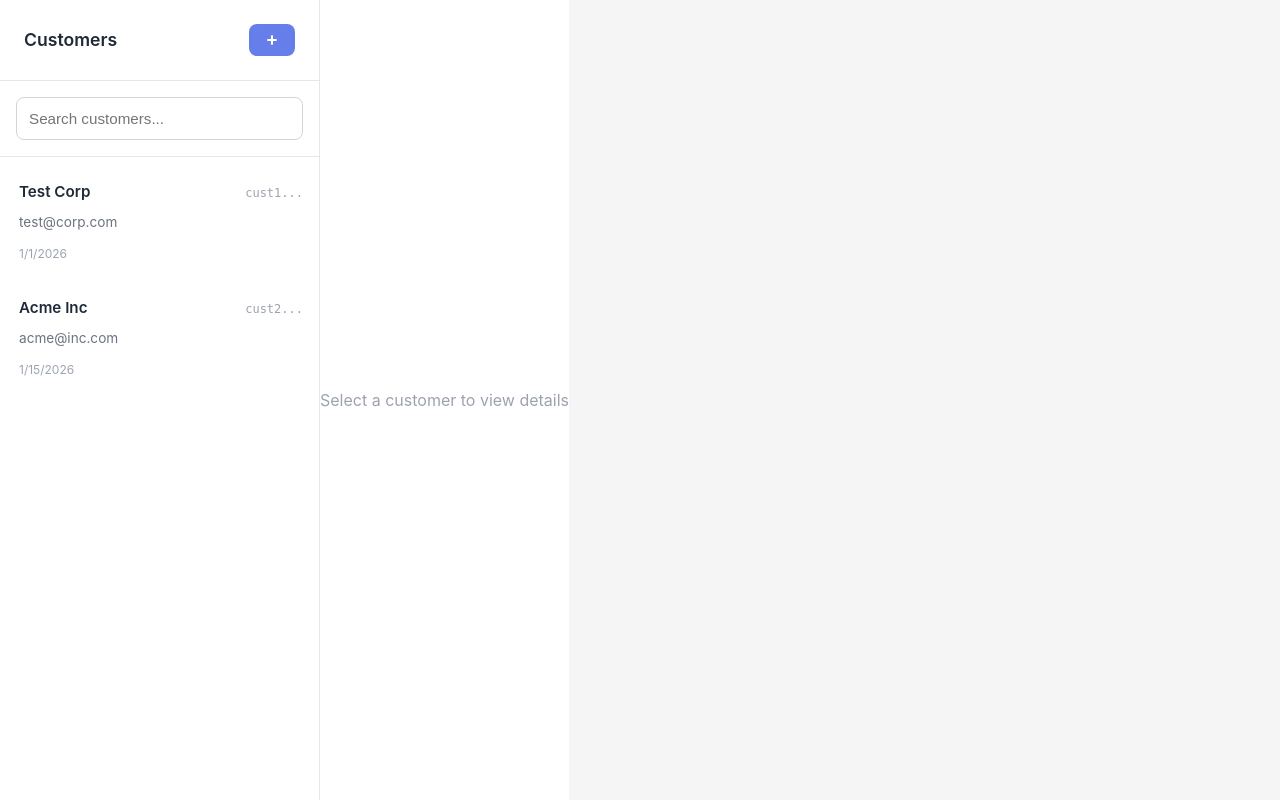
Test: CustomersPage › should open conversation modal when start conversation is clicked
Click the heading "Test Corp" at (55, 192), box left=19, top=181, right=90, bottom=204
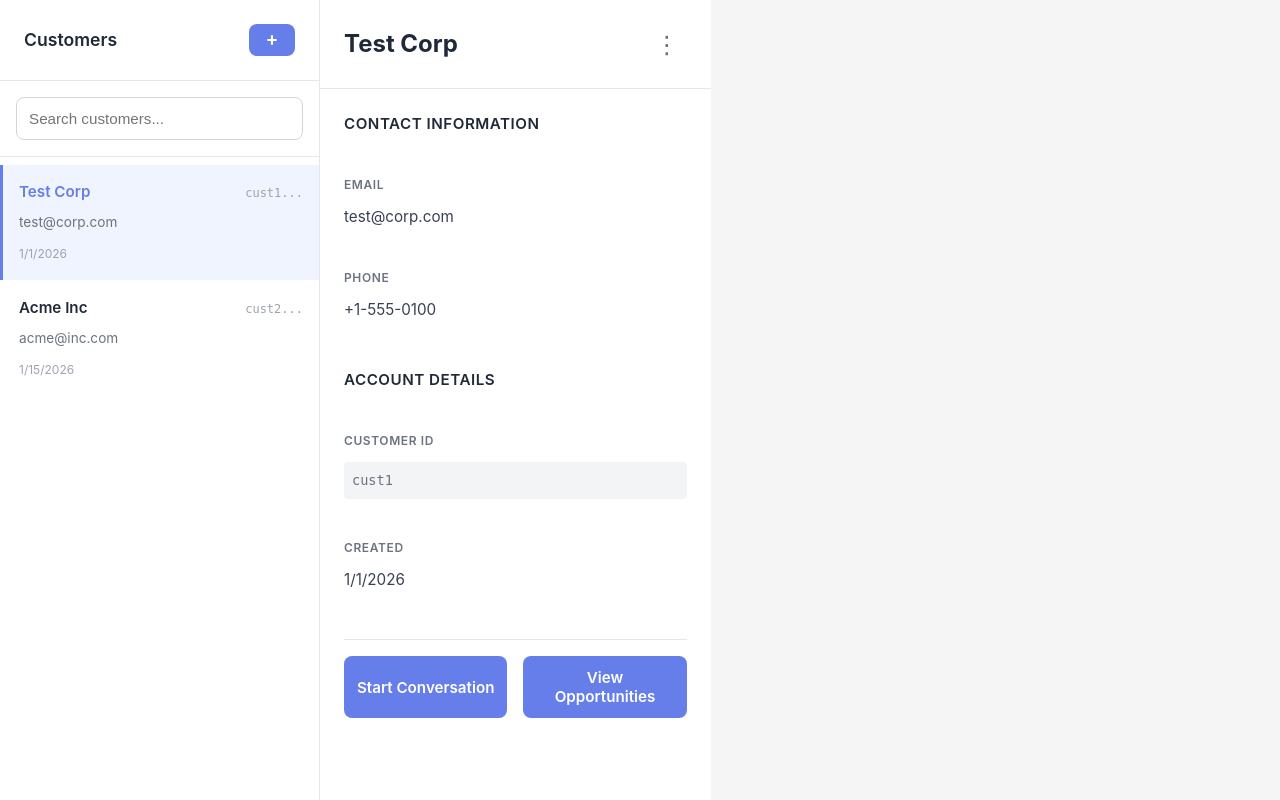
Click the button "Start Conversation" at (426, 687), box left=344, top=656, right=507, bottom=718
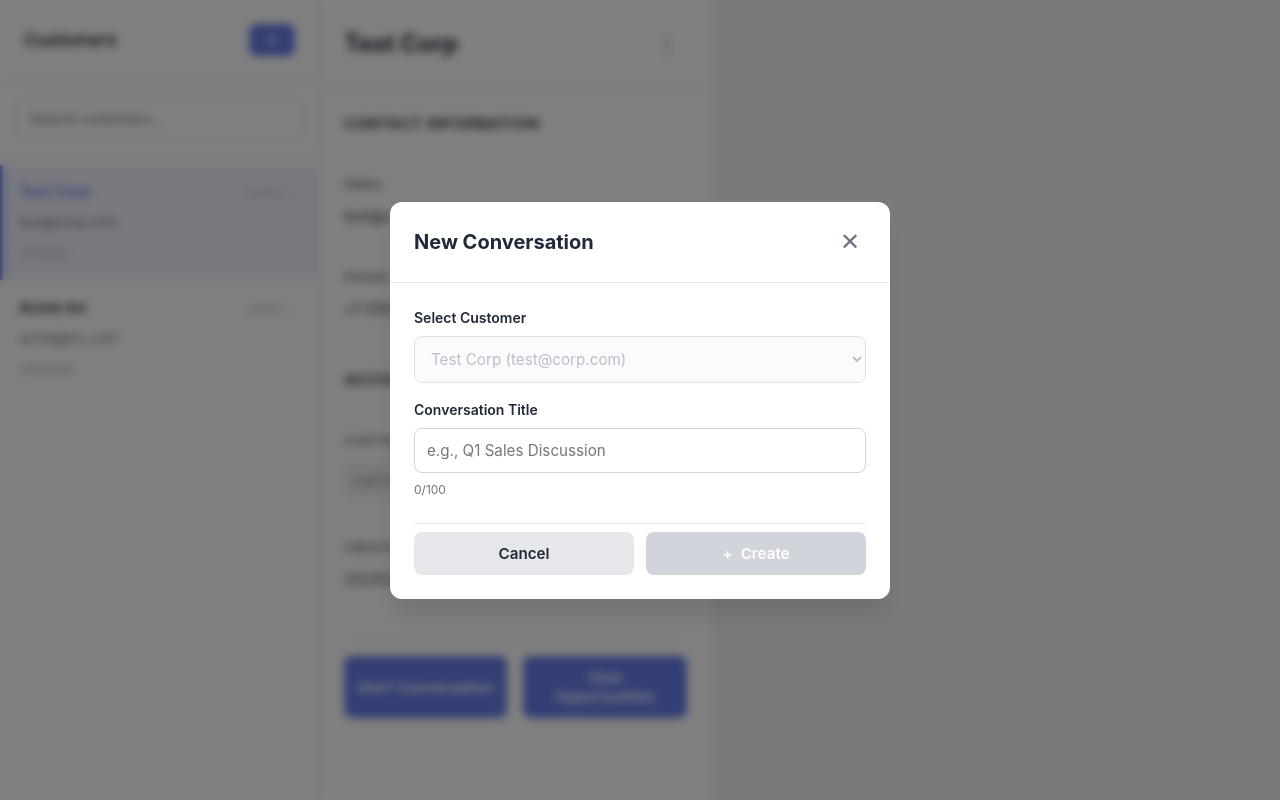
Result: the heading "New Conversation" is shown at left=414, top=226, right=594, bottom=256
